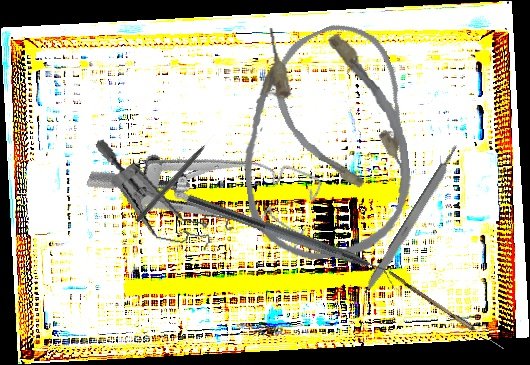Cannula: (227, 13, 420, 267), (257, 9, 436, 213)
Chopper: (180, 193, 405, 293)
Hook Surgical: (134, 133, 218, 224)
Scalpel Handle: (361, 143, 464, 297)
Speculum: (84, 97, 326, 271), (79, 138, 247, 256)
Surgical Spoon: (386, 270, 507, 352)
